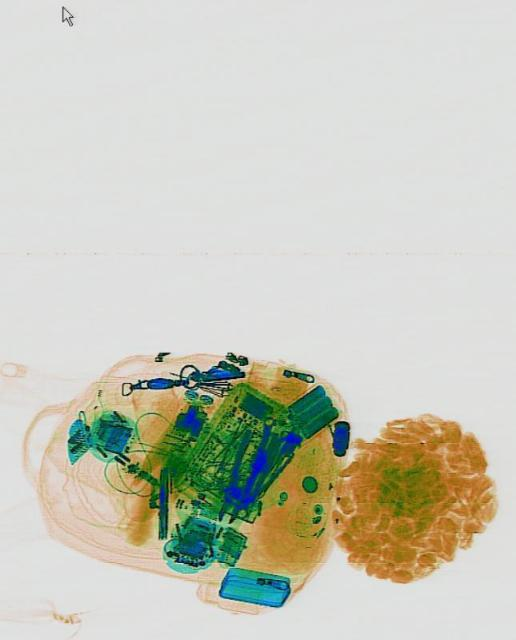Pliers: (204, 427, 282, 533)
Wrench: (235, 414, 273, 520)
